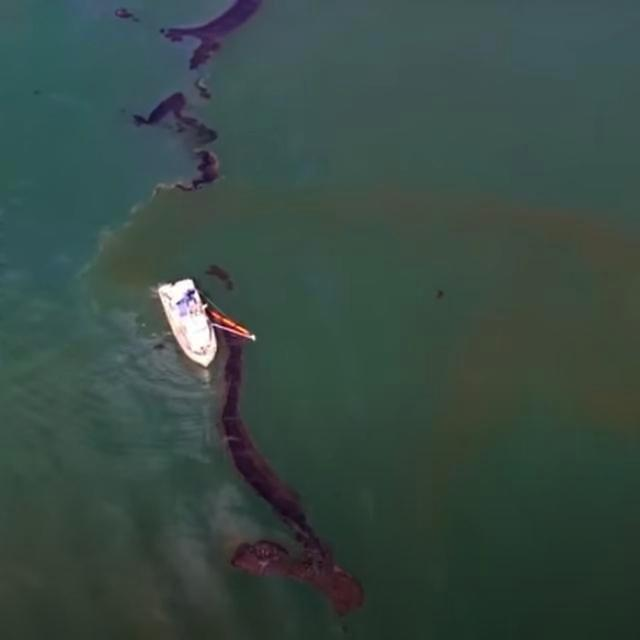oil: (170, 386, 375, 640)
